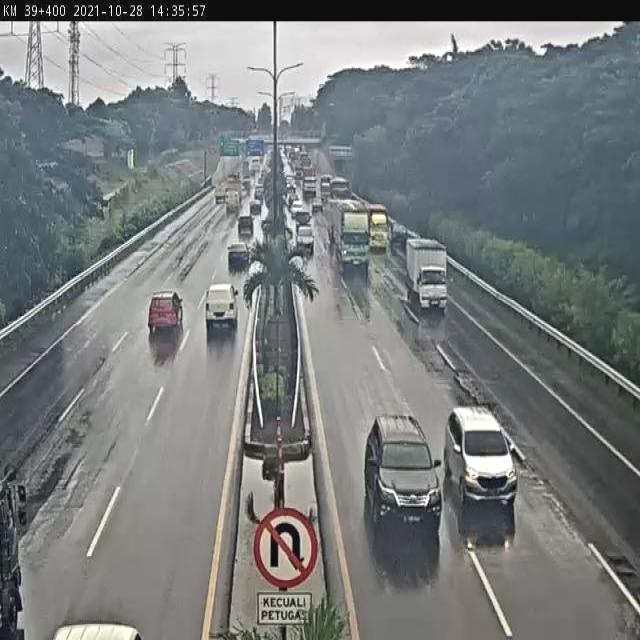Car: (364, 413, 442, 540), (444, 405, 516, 508), (149, 285, 181, 334), (228, 242, 250, 272), (296, 223, 314, 256), (237, 215, 254, 238), (294, 205, 312, 225), (254, 177, 264, 202), (250, 197, 262, 215), (286, 180, 296, 200), (312, 196, 323, 213)
Truck: (404, 238, 447, 314), (329, 200, 372, 274), (214, 185, 226, 204), (242, 176, 251, 192), (278, 145, 287, 159), (293, 146, 300, 156)
Van: (204, 283, 239, 333)
